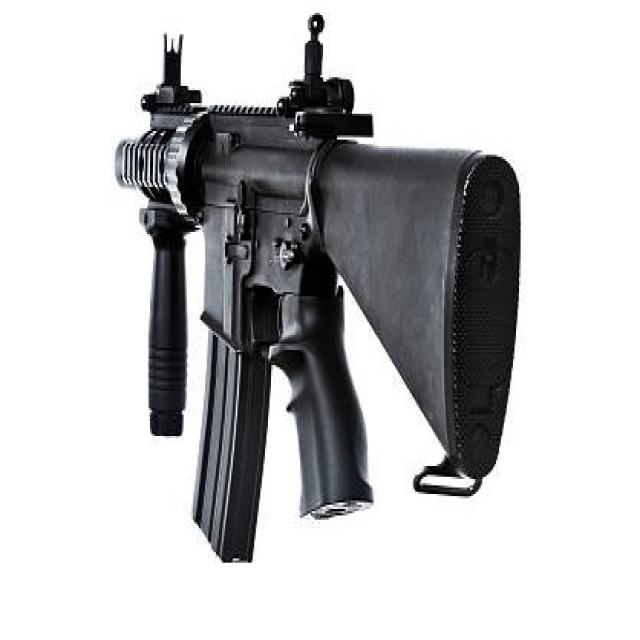rifle: (116, 2, 520, 593)
